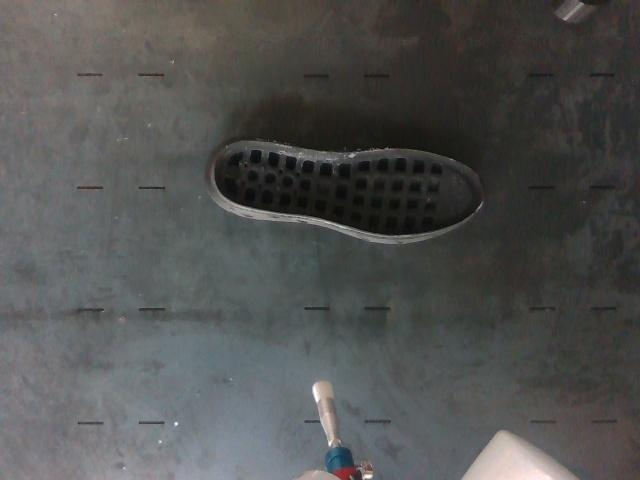shoes: (215, 141, 483, 236)
